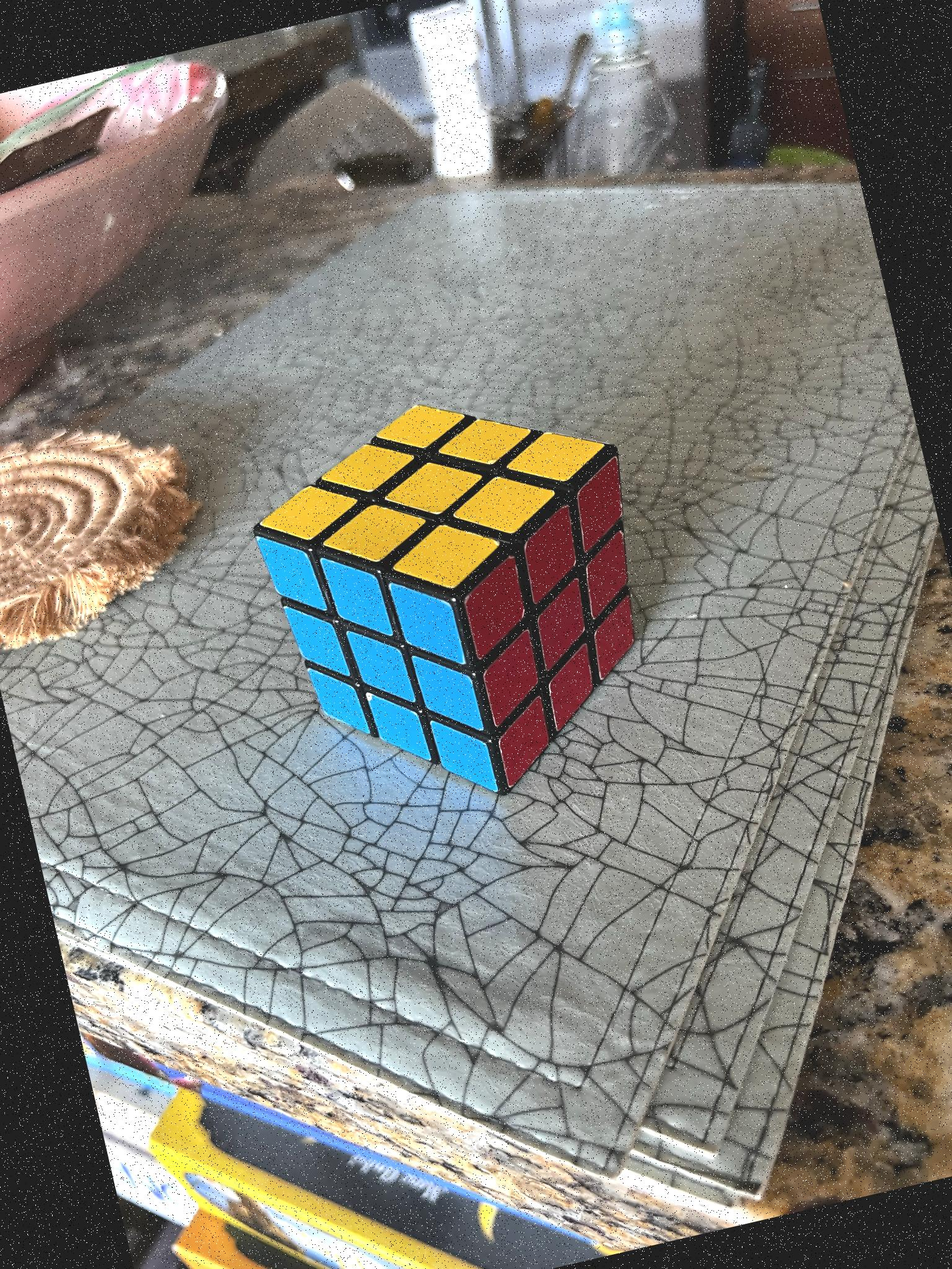rubiks_cube: (256, 405, 634, 791)
